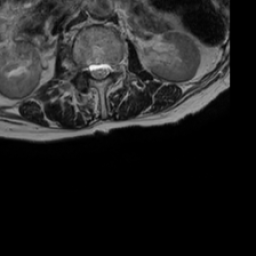CCS_stenosis: (96, 55, 103, 86)
LFS_normal: (111, 55, 119, 80)
LLS_normal: (103, 54, 111, 82)
RFS_stenosis: (80, 56, 88, 78)
RLS_normal: (88, 57, 96, 81)
